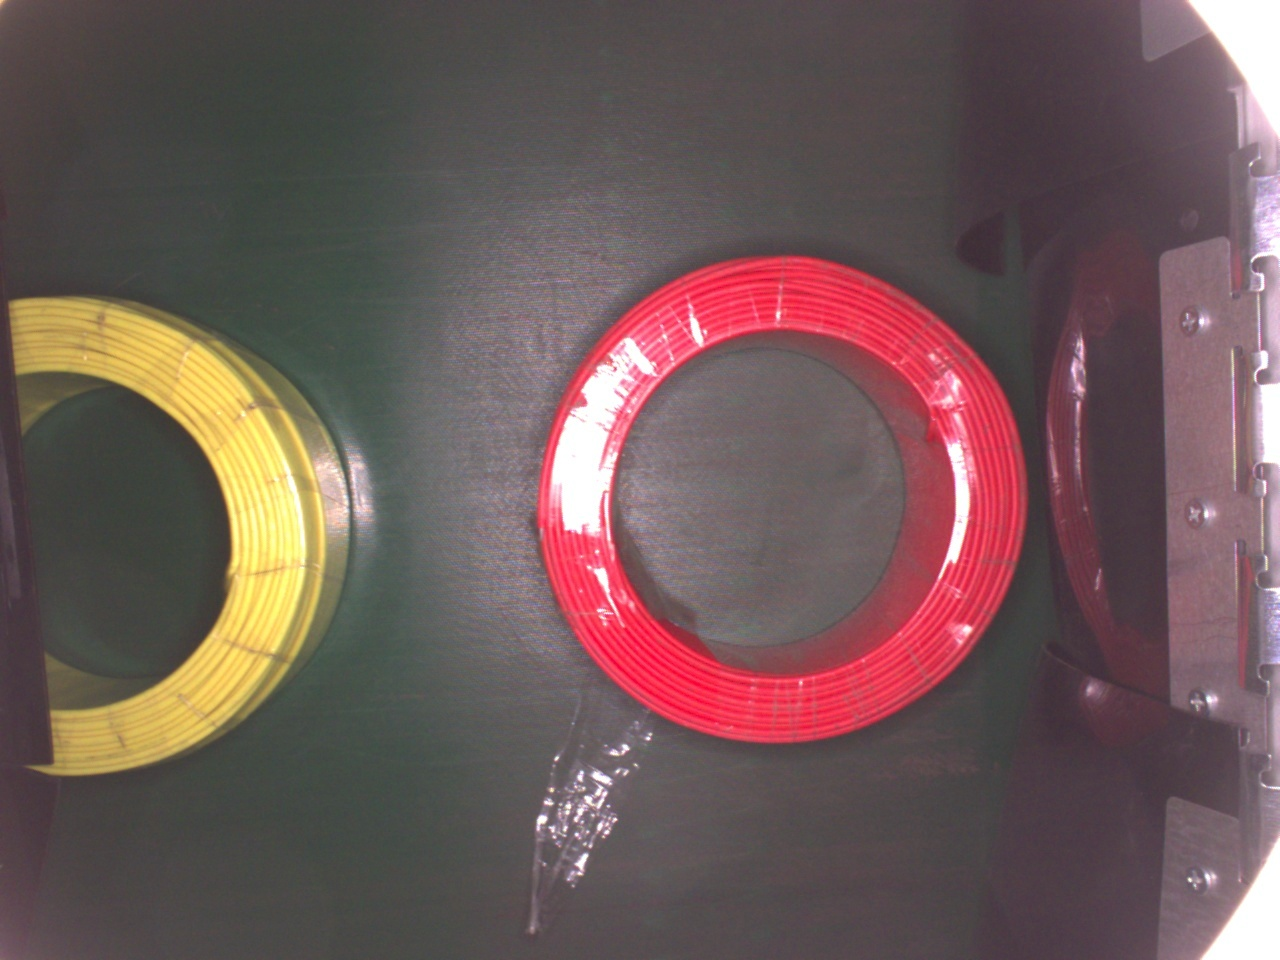red: (534, 249, 1029, 746)
yellow: (4, 292, 353, 781)
